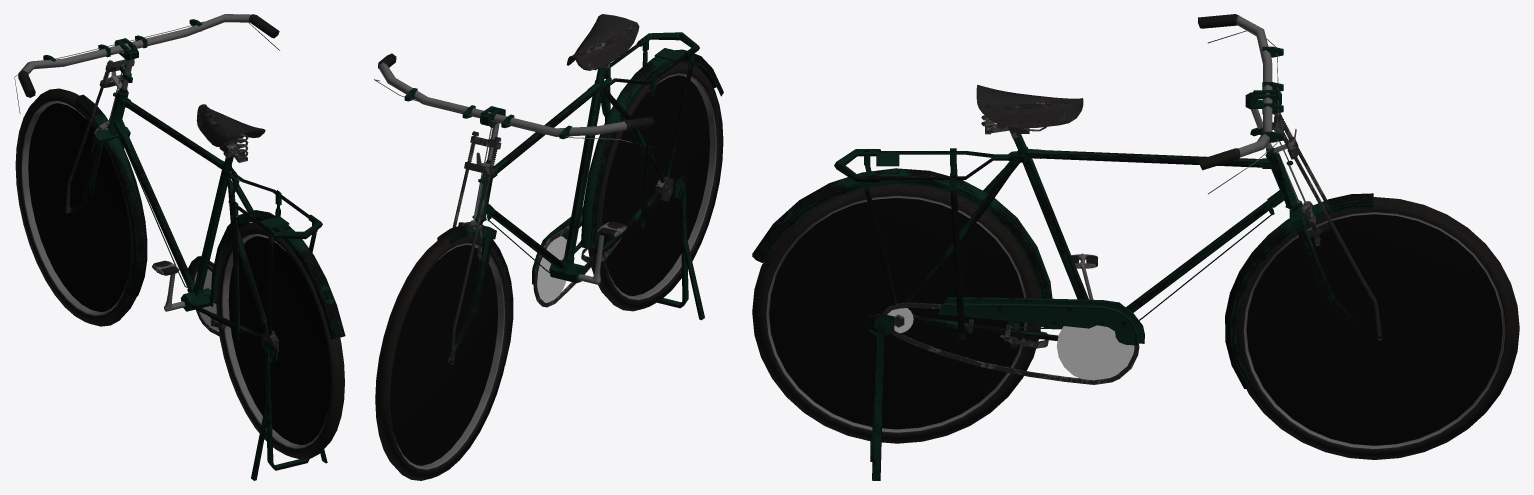
File: hutongBike.fbx
3 views of the same model, side by side, from view 1: azimuth 30°, elevation 25°; view 2: azimuth 150°, elevation 25°; view 3: azimuth 270°, elevation 25° (orthographic). The views are drawn at different scales.
Visible parts, largest first — view 1: bike_wheelstick_low1, bike_wheelstick_low2, bick_frame_low, bike_parts_a_low, bike__seat_low, bike_stand_low, bike_padle_low, bike_gear_low; view 2: bike_wheelstick_low1, bike_wheelstick_low2, bick_frame_low, bike_parts_a_low, bike__seat_low, bike_stand_low, bike_gear_low, bike_padle_low, bike_chain_low; view 3: bike_wheelstick_low1, bike_wheelstick_low2, bick_frame_low, bike_parts_a_low, bike__seat_low, bike_gear_low, bike_chain_low, bike_stand_low.
Boxes of the visible parts, x1,y1,x2,y2 form: bike_wheelstick_low1: (15, 88, 136, 326); bike_wheelstick_low2: (216, 222, 344, 459); bick_frame_low: (64, 39, 345, 351); bike_parts_a_low: (14, 14, 322, 341); bike__seat_low: (196, 104, 265, 162); bike_stand_low: (251, 341, 327, 480); bike_padle_low: (152, 260, 185, 311); bike_gear_low: (194, 269, 218, 330); bike_wheelstick_low1: (375, 236, 510, 480); bike_wheelstick_low2: (588, 62, 723, 311); bick_frame_low: (437, 48, 723, 365); bike_parts_a_low: (374, 32, 699, 364); bike__seat_low: (566, 14, 639, 70); bike_stand_low: (657, 176, 704, 320); bike_gear_low: (537, 236, 566, 302); bike_padle_low: (578, 221, 626, 284); bike_chain_low: (533, 215, 590, 307); bike_wheelstick_low1: (1236, 197, 1519, 459); bike_wheelstick_low2: (752, 183, 1041, 443); bick_frame_low: (752, 92, 1373, 388); bike_parts_a_low: (834, 14, 1382, 340); bike__seat_low: (976, 84, 1083, 138); bike_gear_low: (887, 308, 1134, 380); bike_chain_low: (882, 302, 1139, 384); bike_stand_low: (868, 313, 894, 480).
Size of the model in its own units: 424 by 496 by 910.
